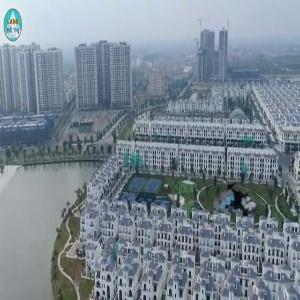drone: (205, 179, 261, 235)
